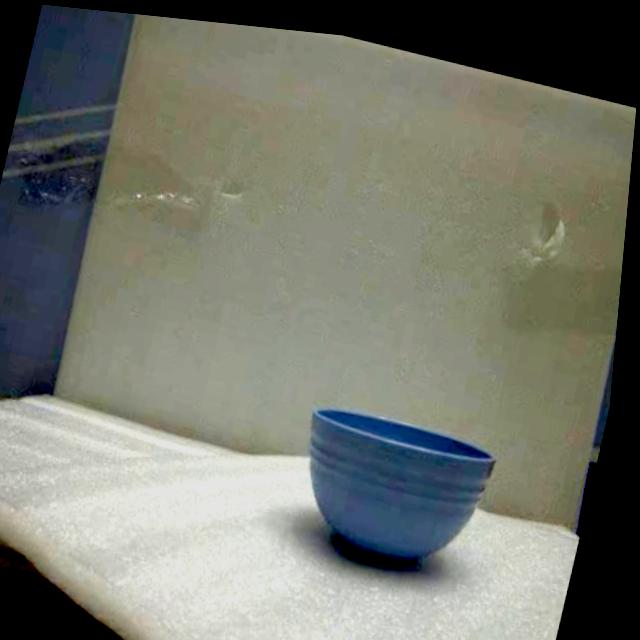Bowl: (309, 409, 493, 563)
